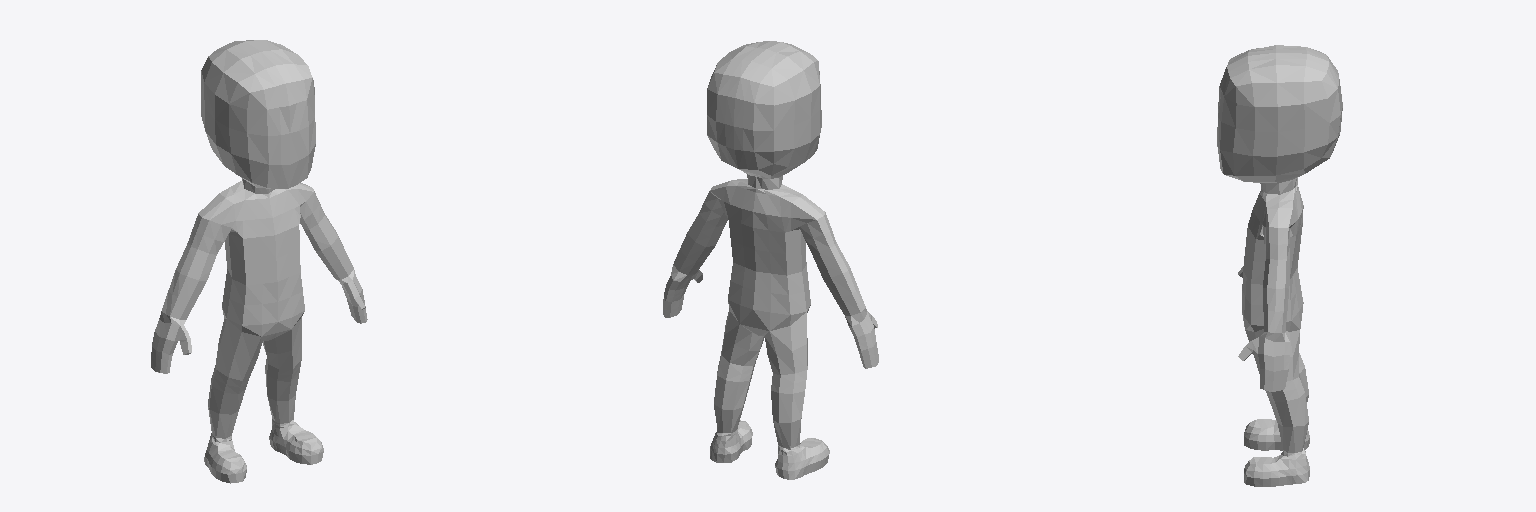
File: character.obj
The picture shows the model from 3 angles: view 1: azimuth 30°, elevation 25°; view 2: azimuth 150°, elevation 25°; view 3: azimuth 270°, elevation 25°; orthographic projection.
Visible parts, largest first — view 1: characterMedium; view 2: characterMedium; view 3: characterMedium.
Boxes of the visible parts, box(x1,y1,x2,y2) form: characterMedium: box(151, 40, 367, 483); characterMedium: box(663, 41, 878, 479); characterMedium: box(1217, 45, 1342, 486).
Bounding box in the file's own units: 2.01 × 3.76 × 1.05.